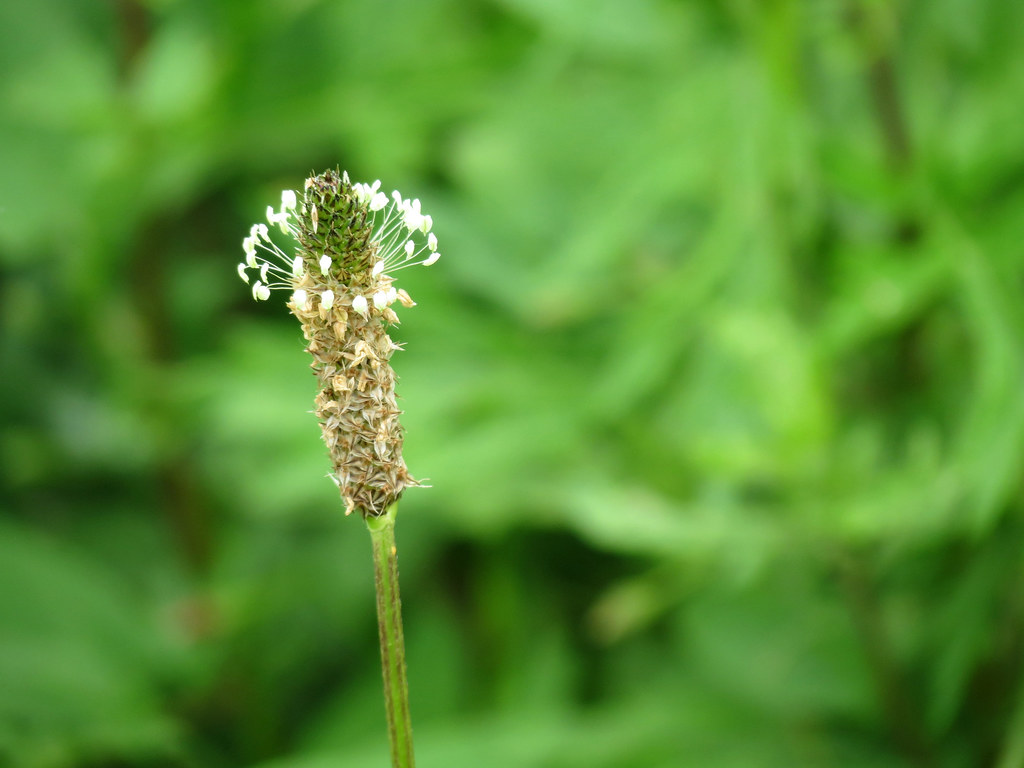buckhorn plantain: (226, 156, 453, 612)
